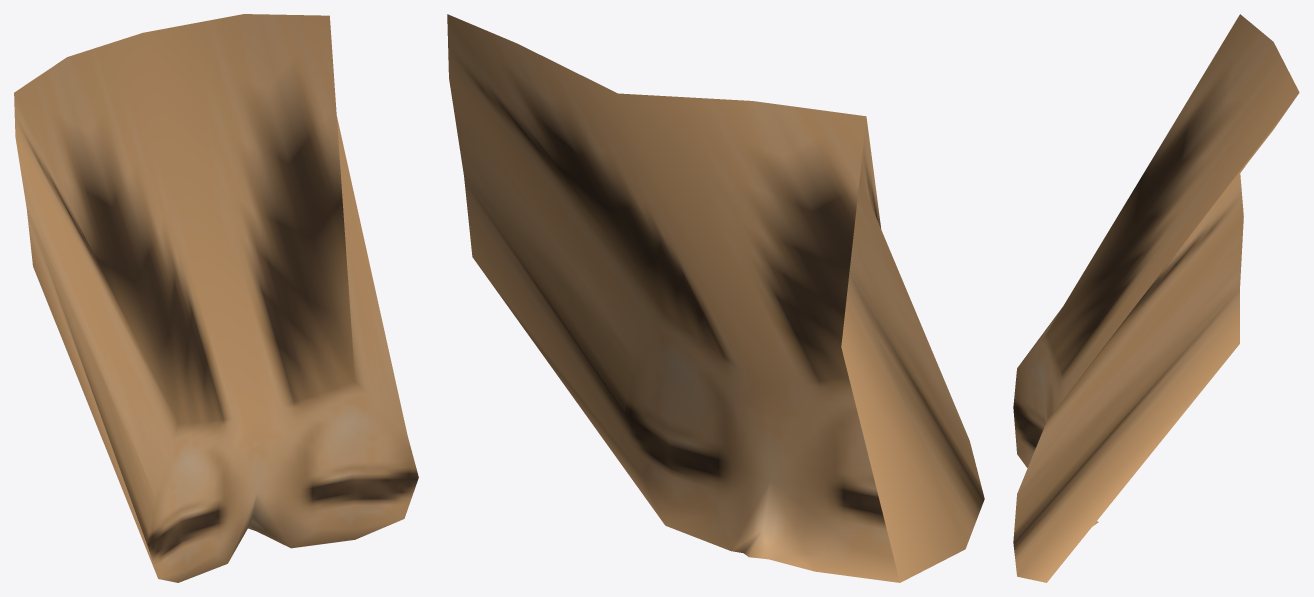
The model's file is batch_0008.obj.
3 renders of one model, left to right at view 1: azimuth 30°, elevation 25°; view 2: azimuth 150°, elevation 25°; view 3: azimuth 270°, elevation 25°, orthographic. The views are drawn at different scales.
Visible parts, largest first — view 1: batch_0008; view 2: batch_0008; view 3: batch_0008.
Part boxes in pixels (x1,y1,x2,y2): batch_0008: (14,14,418,582); batch_0008: (447,14,984,582); batch_0008: (1013,14,1299,582).
Size of the model in its own units: 25 by 33.63 by 19.25.
1 material, 1 textured.
